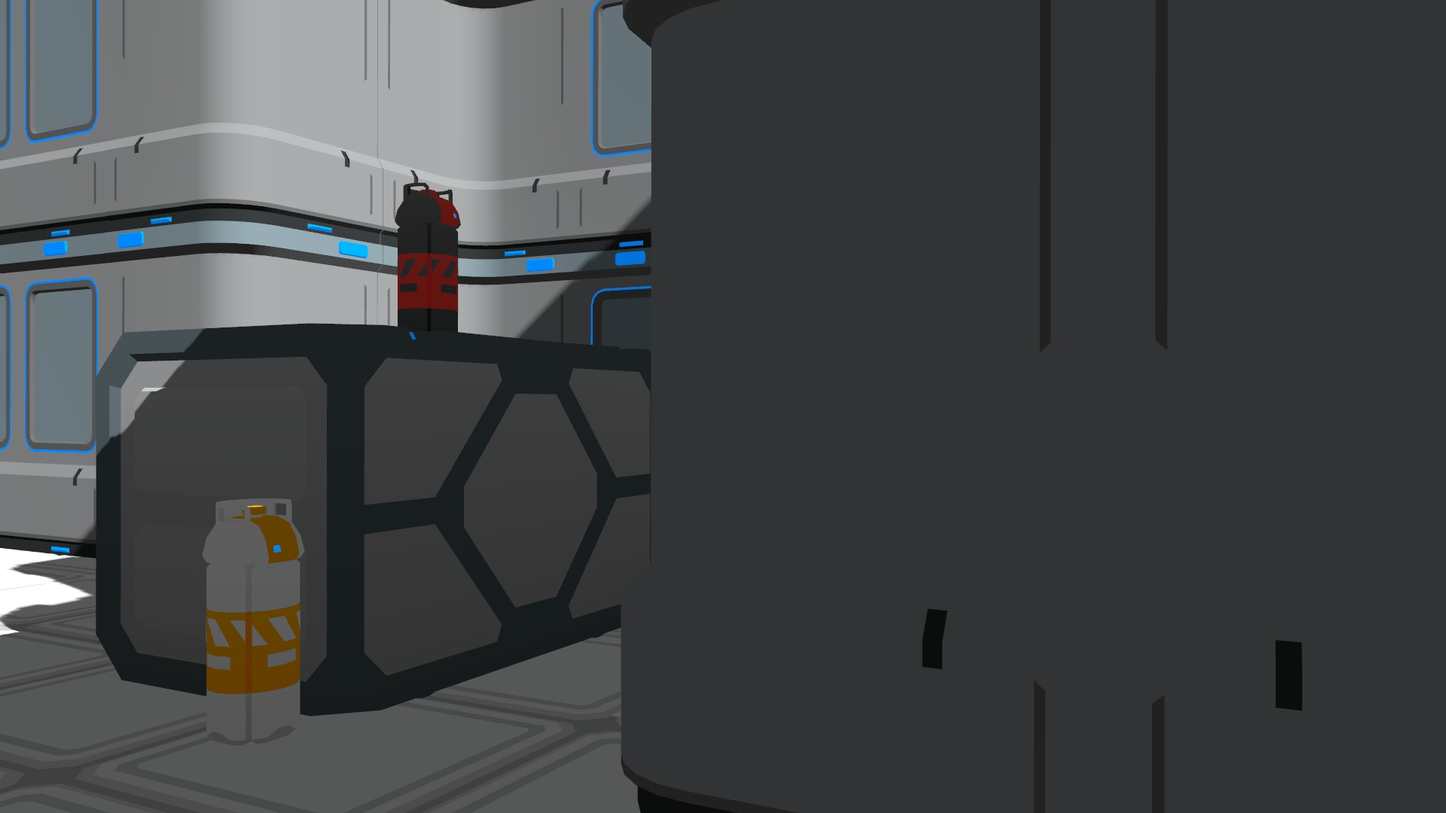red_barrel: (391, 179, 467, 338)
yellow_barrel: (198, 493, 304, 748)
